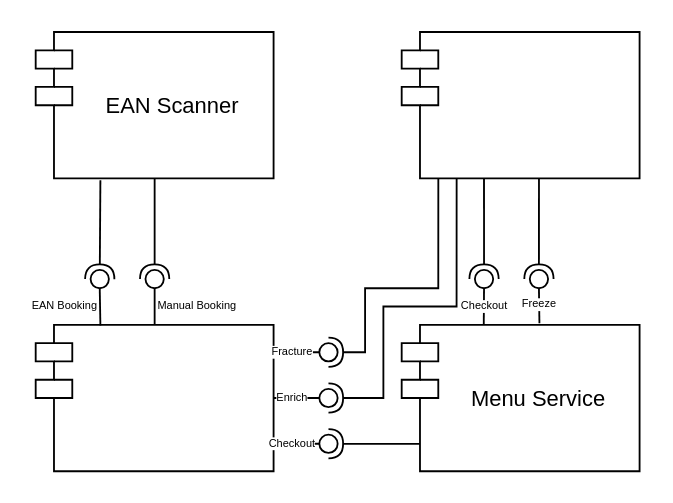
Some shapes in this 673 by 503 pixel diagram are drawn without their labels. The shapes that lost their labels are listed below. From the top down, each one's centre as x and y in pixels, then its label:
At (520,104): "Stock PWA".
At (154,397): "Stock Service".
